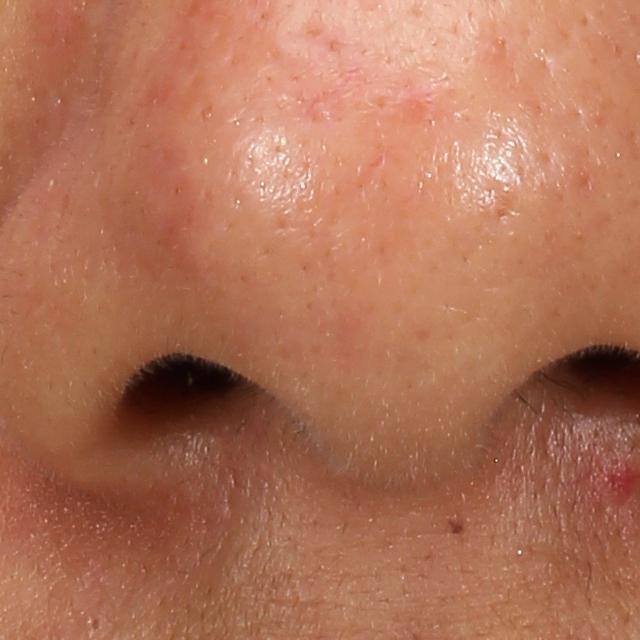comedo: (87, 612, 106, 637)
nevus: (444, 515, 468, 539)
papule: (597, 458, 639, 498)
